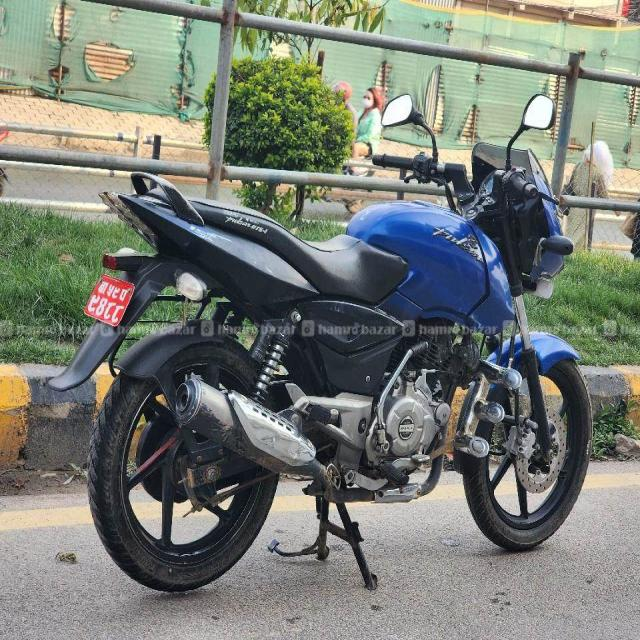License-plate: (82, 270, 134, 333)
